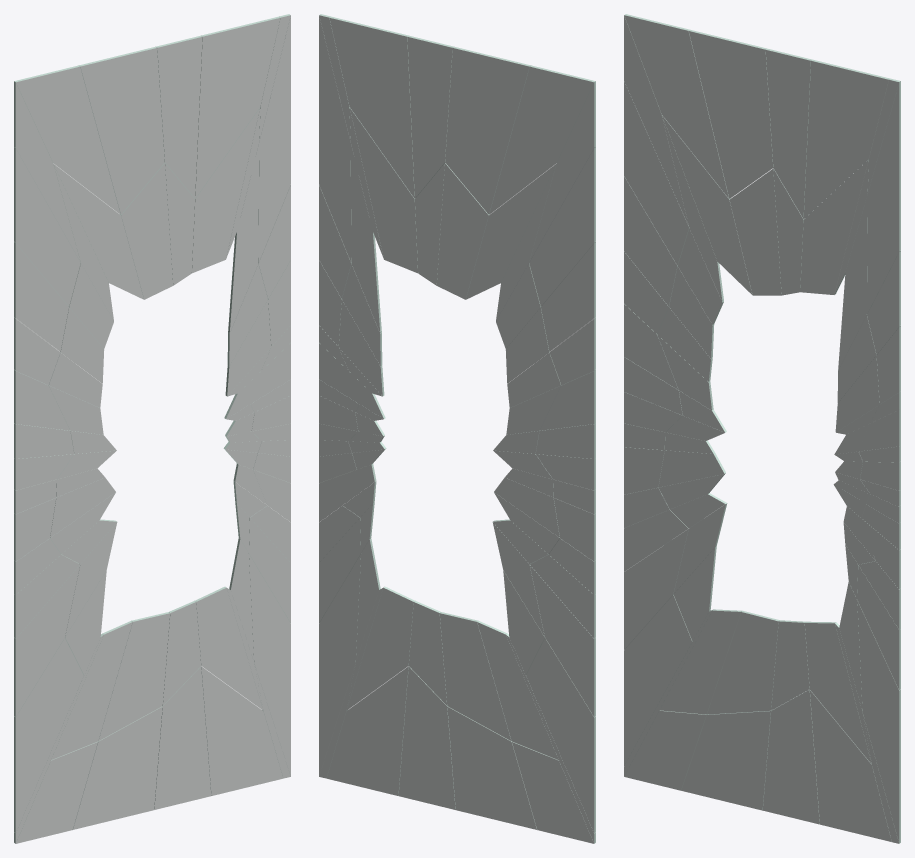
Rendered from DoorGlass_Left_Broken.fbx.
3 views of the same model, side by side, from view 1: azimuth 30°, elevation 25°; view 2: azimuth 150°, elevation 25°; view 3: azimuth 330°, elevation 25° (orthographic).
Parts seen in each view (by area): view 1: DoorGlass_Left_Broken; view 2: DoorGlass_Left_Broken; view 3: DoorGlass_Left_Broken.
Boxes of the visible parts, bbox=[...] form: DoorGlass_Left_Broken: bbox=[14, 14, 290, 843]; DoorGlass_Left_Broken: bbox=[319, 14, 595, 843]; DoorGlass_Left_Broken: bbox=[624, 14, 900, 843].
Bounding box in the file's own units: 77.47 × 205 × 0.8.
